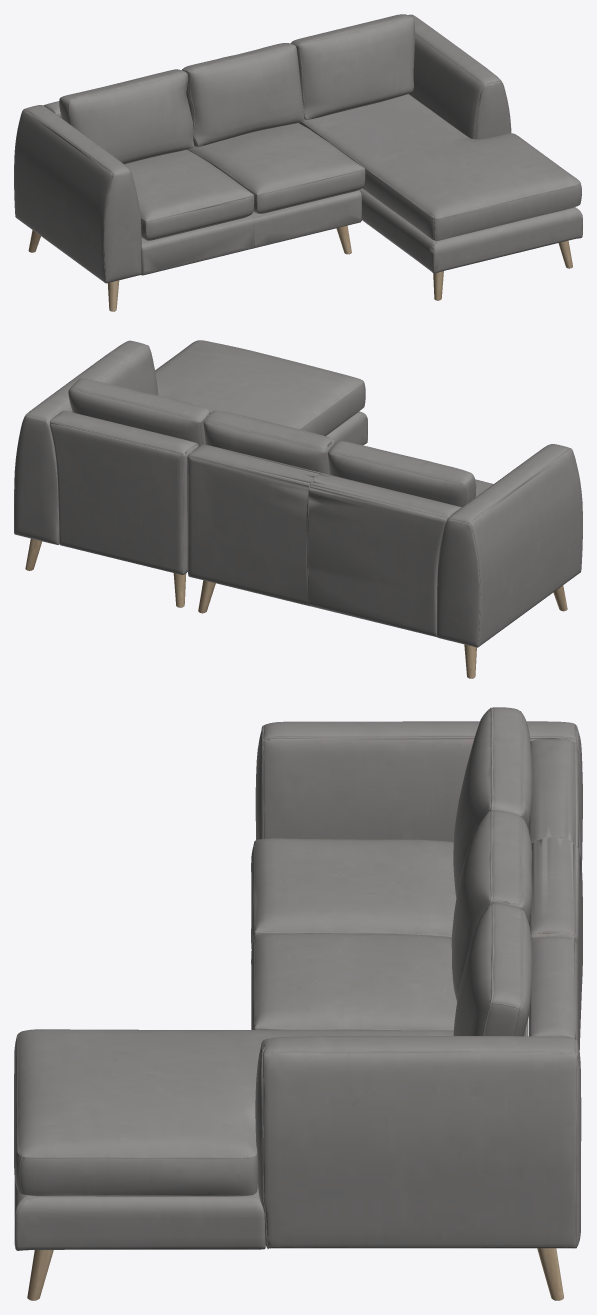
File: B07K8V2JRF.glb
The picture shows the model from 3 angles, top to bottom: view 1: azimuth 30°, elevation 25°; view 2: azimuth 150°, elevation 25°; view 3: azimuth 270°, elevation 25°; orthographic projection. The views are drawn at different scales.
Visible parts, largest first — view 1: B07K8V2JRF; view 2: B07K8V2JRF; view 3: B07K8V2JRF.
Boxes of the visible parts, x1,y1,x2,y2 form: B07K8V2JRF: (14,14,582,311); B07K8V2JRF: (14,340,582,678); B07K8V2JRF: (14,707,582,1300).
Size of the model in its own units: 2.3 by 0.8601 by 1.58.
1 material, 1 textured.
